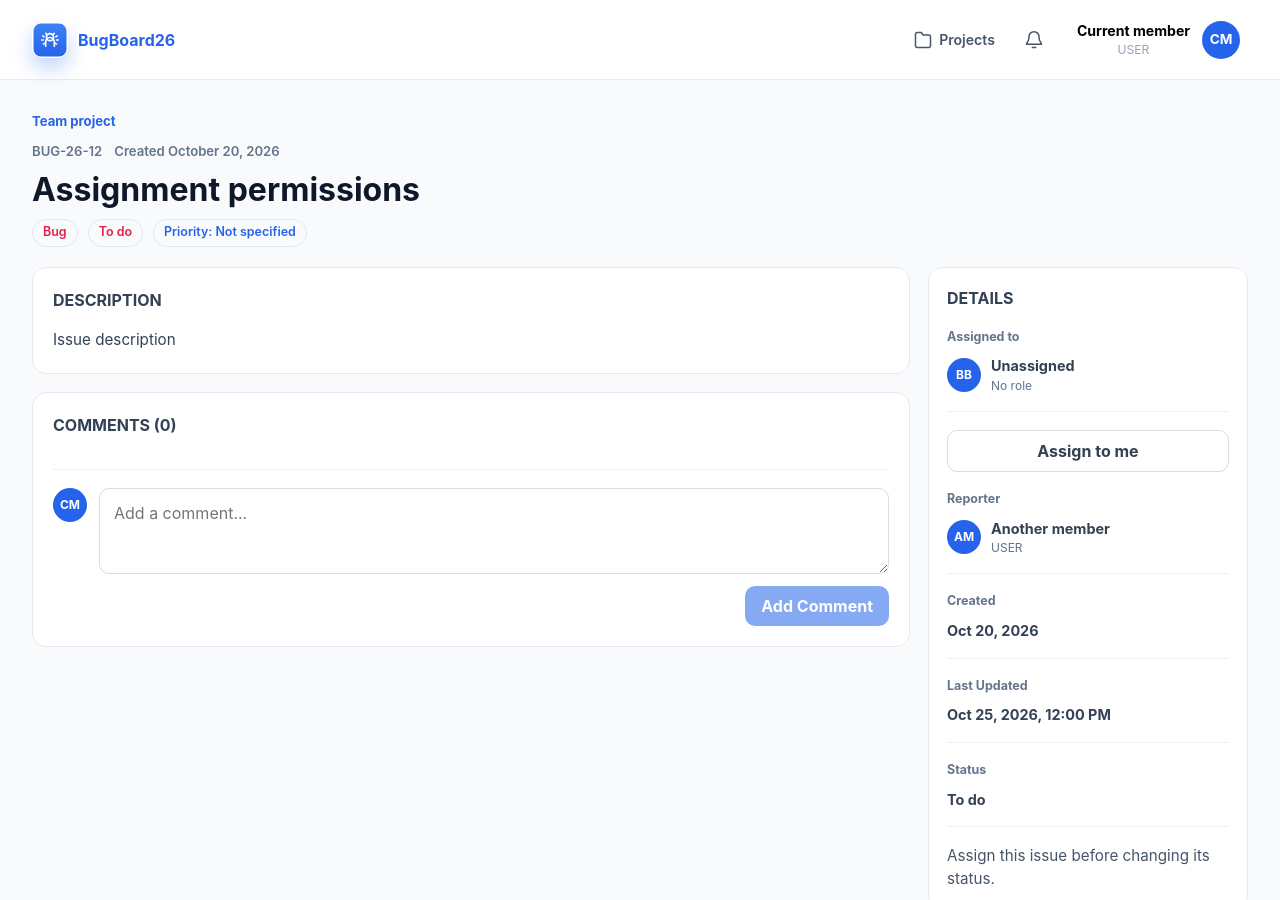
Test: USER claims an unassigned issue and immediately gains the status control
Expected: the heading "Assignment permissions" is shown, x1=32 y1=170 x2=420 y2=209
Expected: the field labelled "Change Status" is not shown
Click the button "Assign to me" at {"x": 1088, "y": 451}, box x1=947 y1=430 x2=1229 y2=472
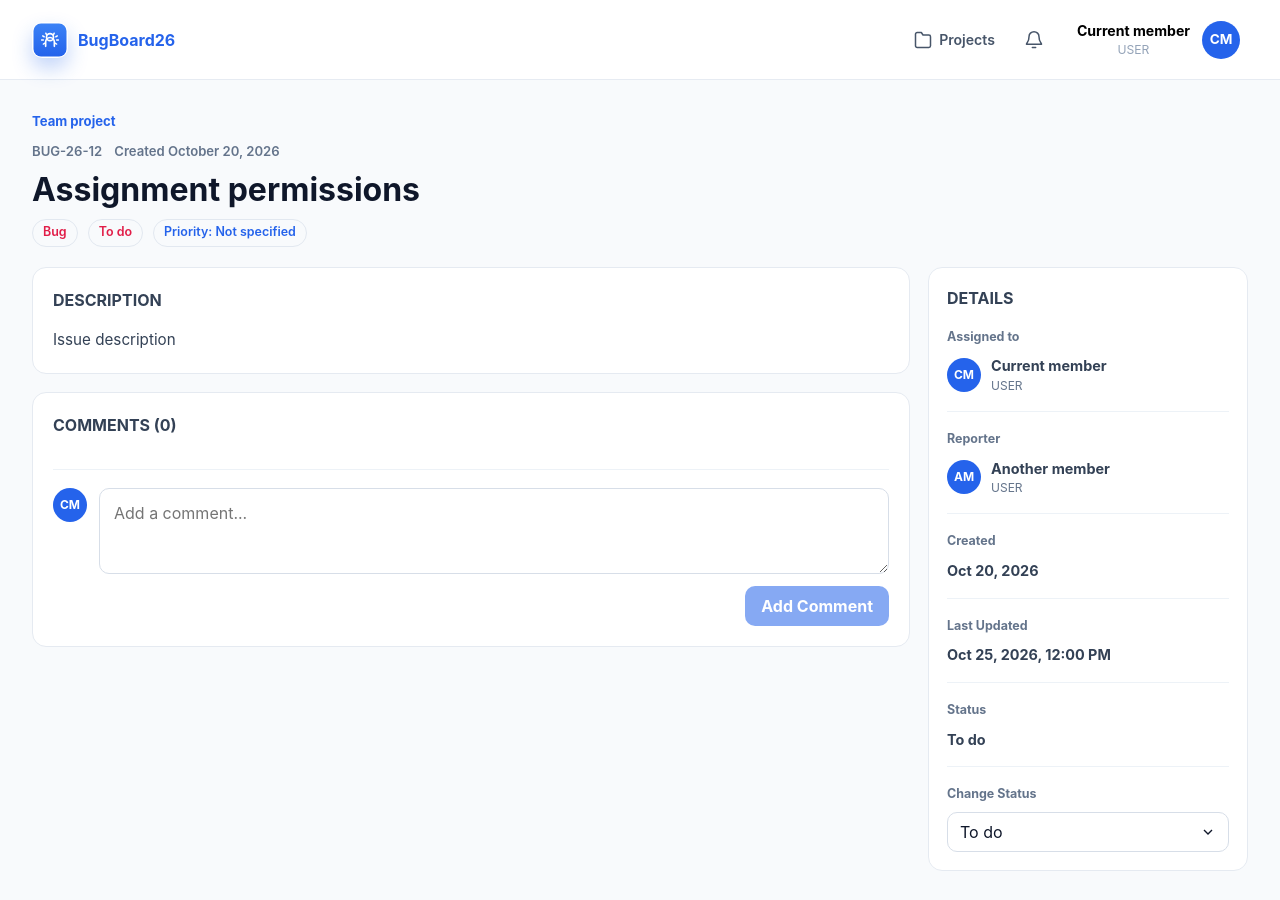
Result: the button named "Change Status" is shown at x1=947 y1=812 x2=1229 y2=852
Result: the button "Assign to me" is gone
